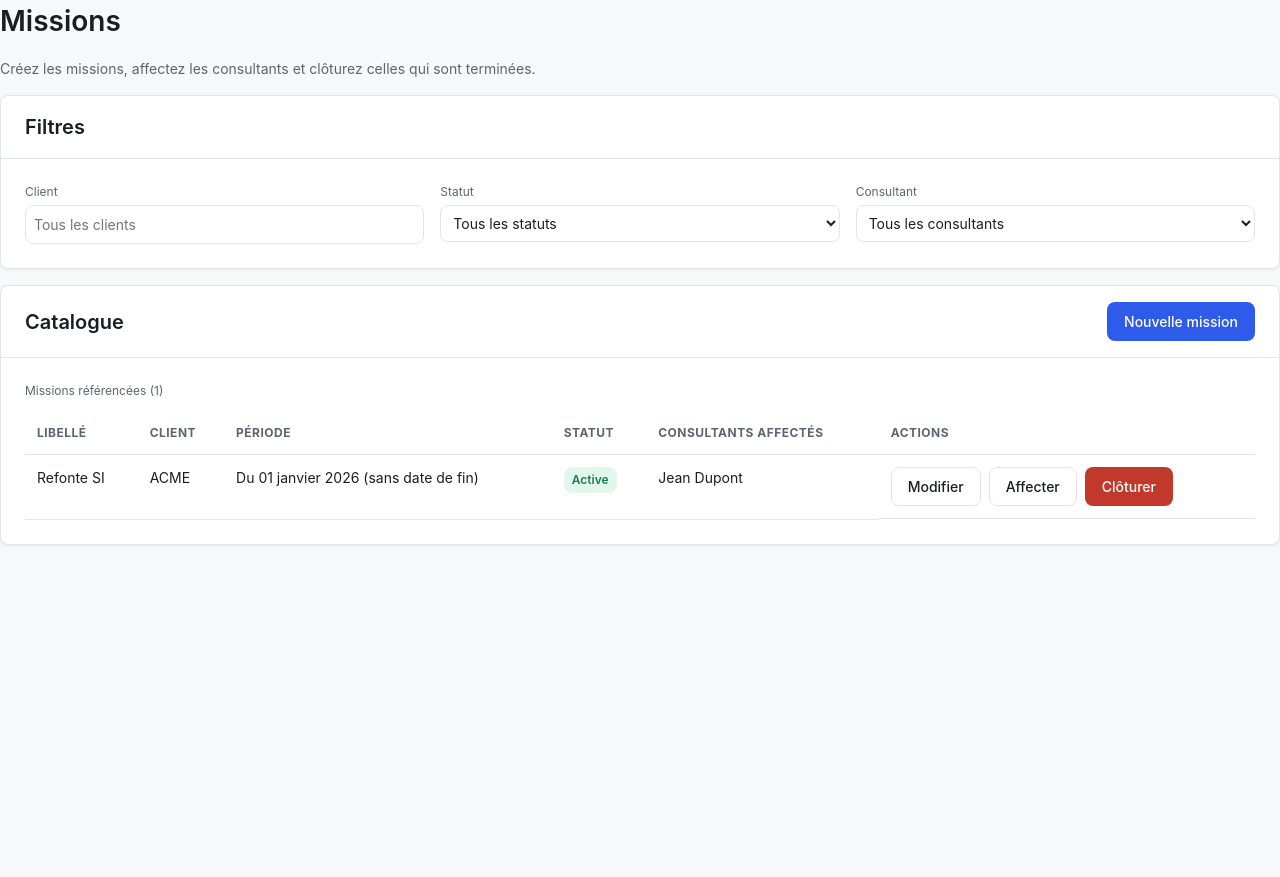
Test: MissionsPage › efface l’erreur de mutation quand le panneau d’affectation est fermé
Click the button "Affecter": x=1033, y=486 [989,467,1077,506]
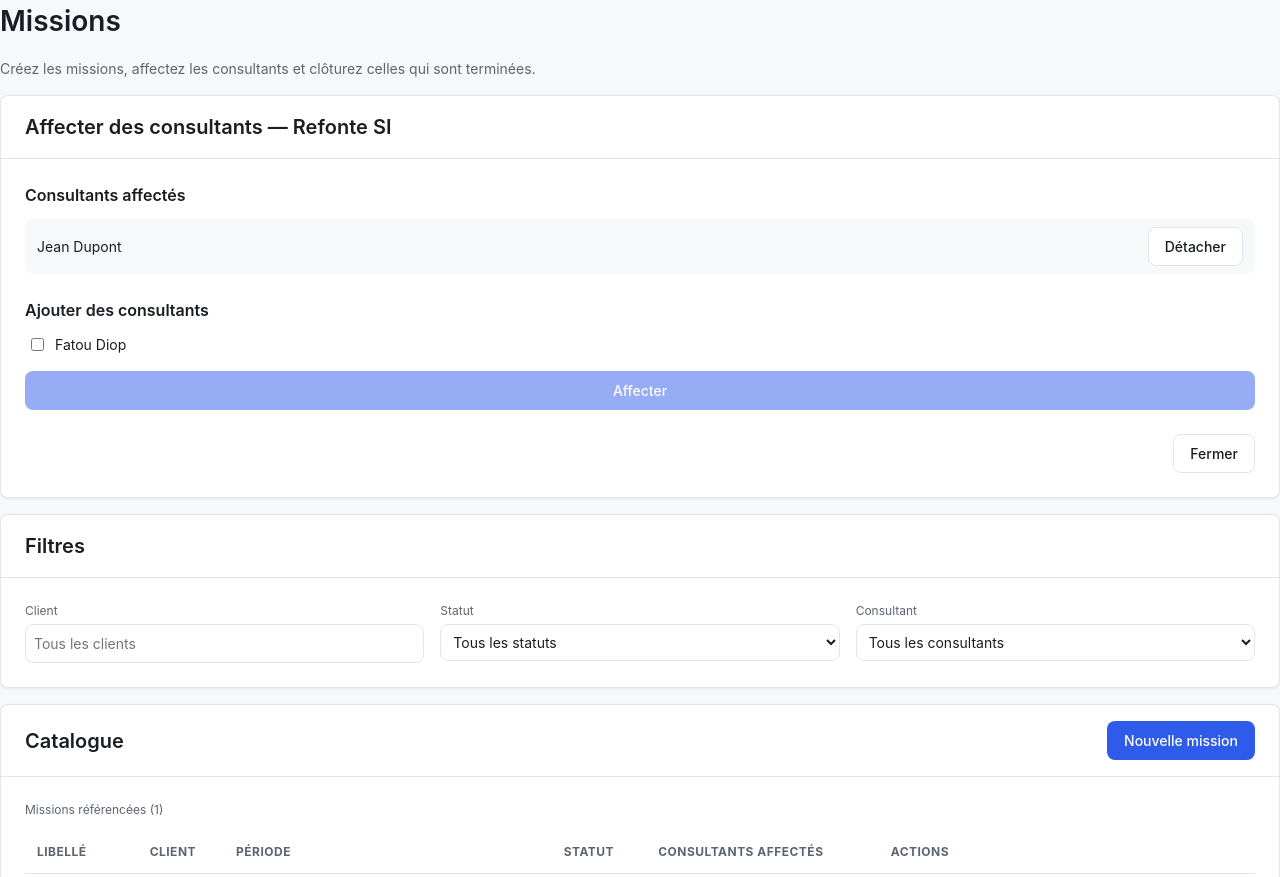
Click the checkbox labelled "Fatou Diop": x=38, y=344 [31,338,44,351]
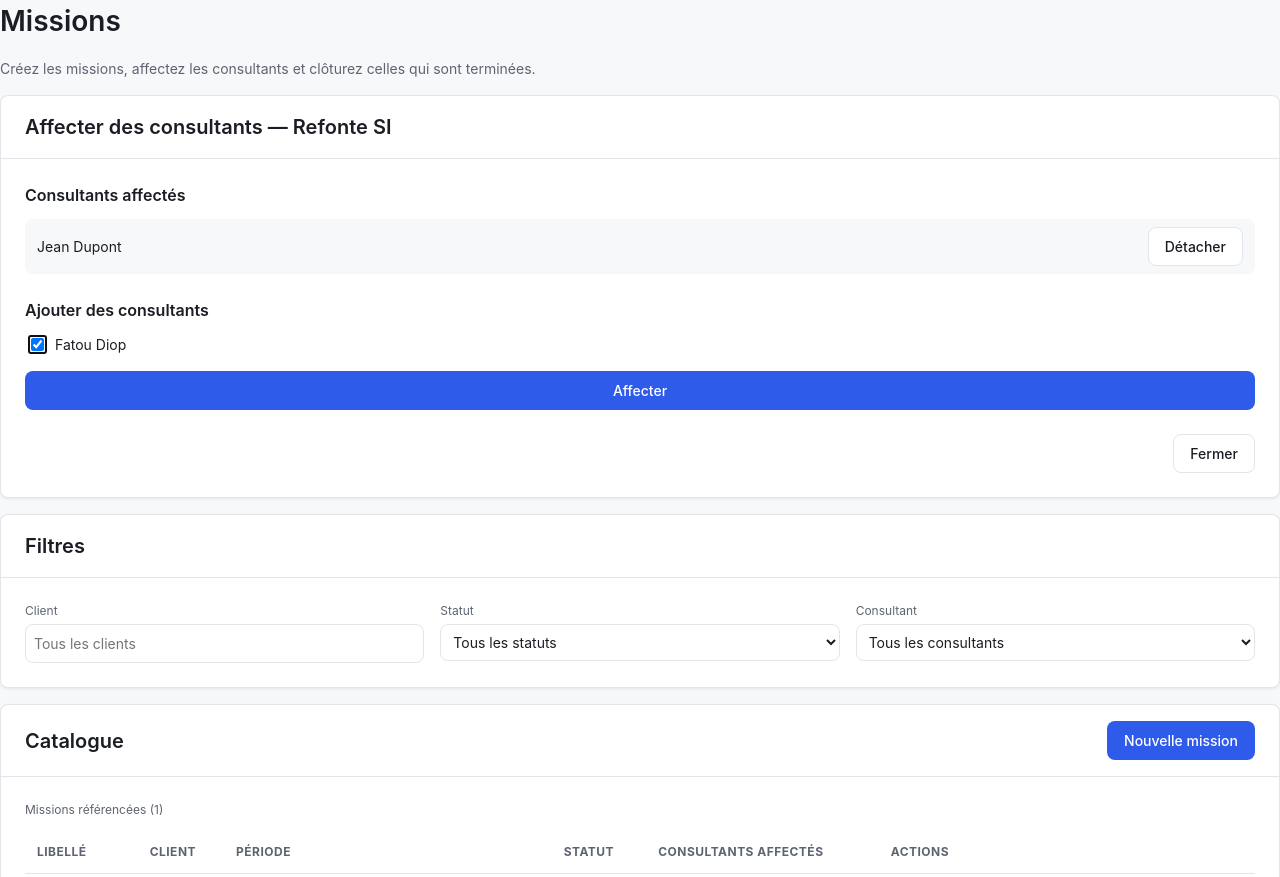
Click the button "Affecter" below "Fatou Diop": x=640, y=390 [25,371,1255,410]
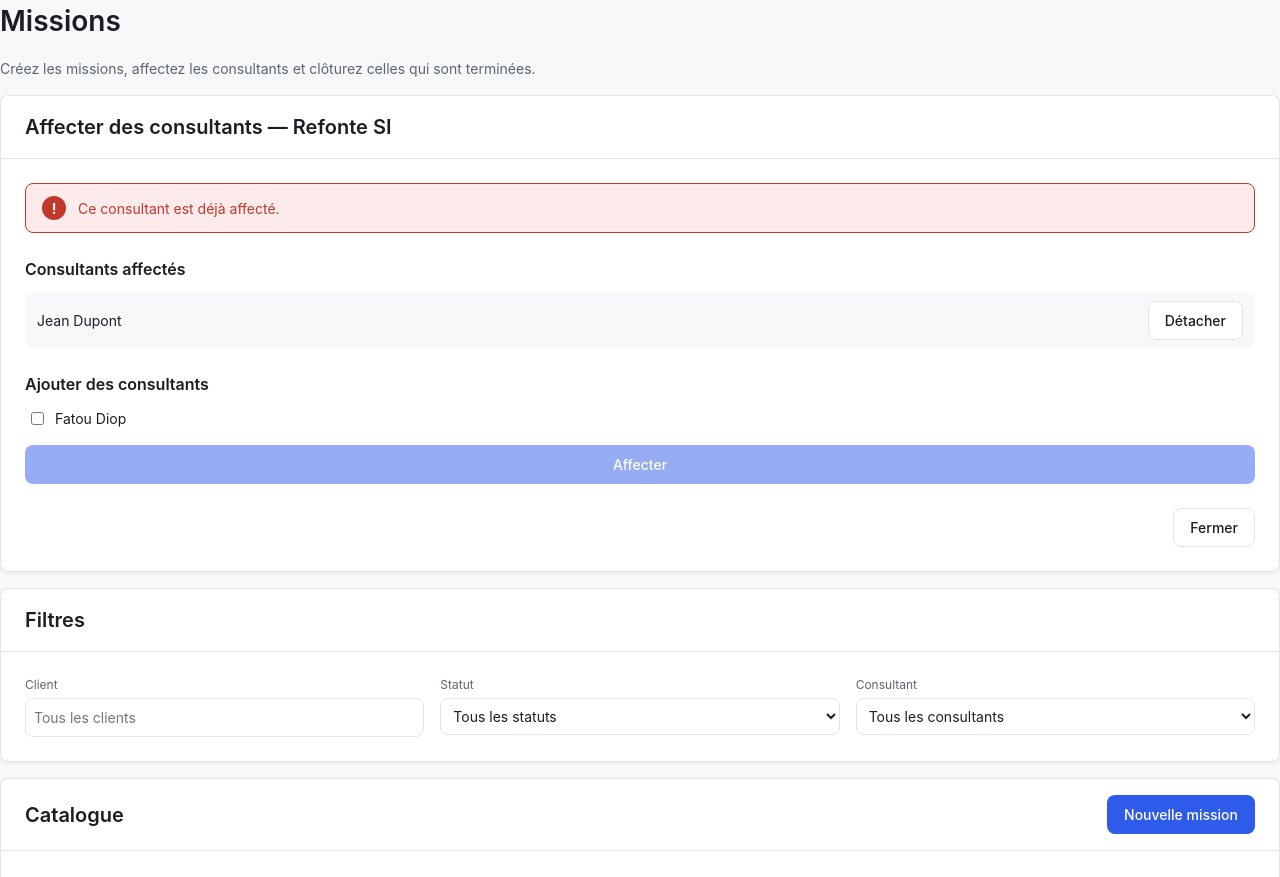
Expected: the text "Ce consultant est déjà affecté." is shown, [78,198,280,218]
Click the button "Fermer": x=1214, y=528 [1173,508,1255,547]
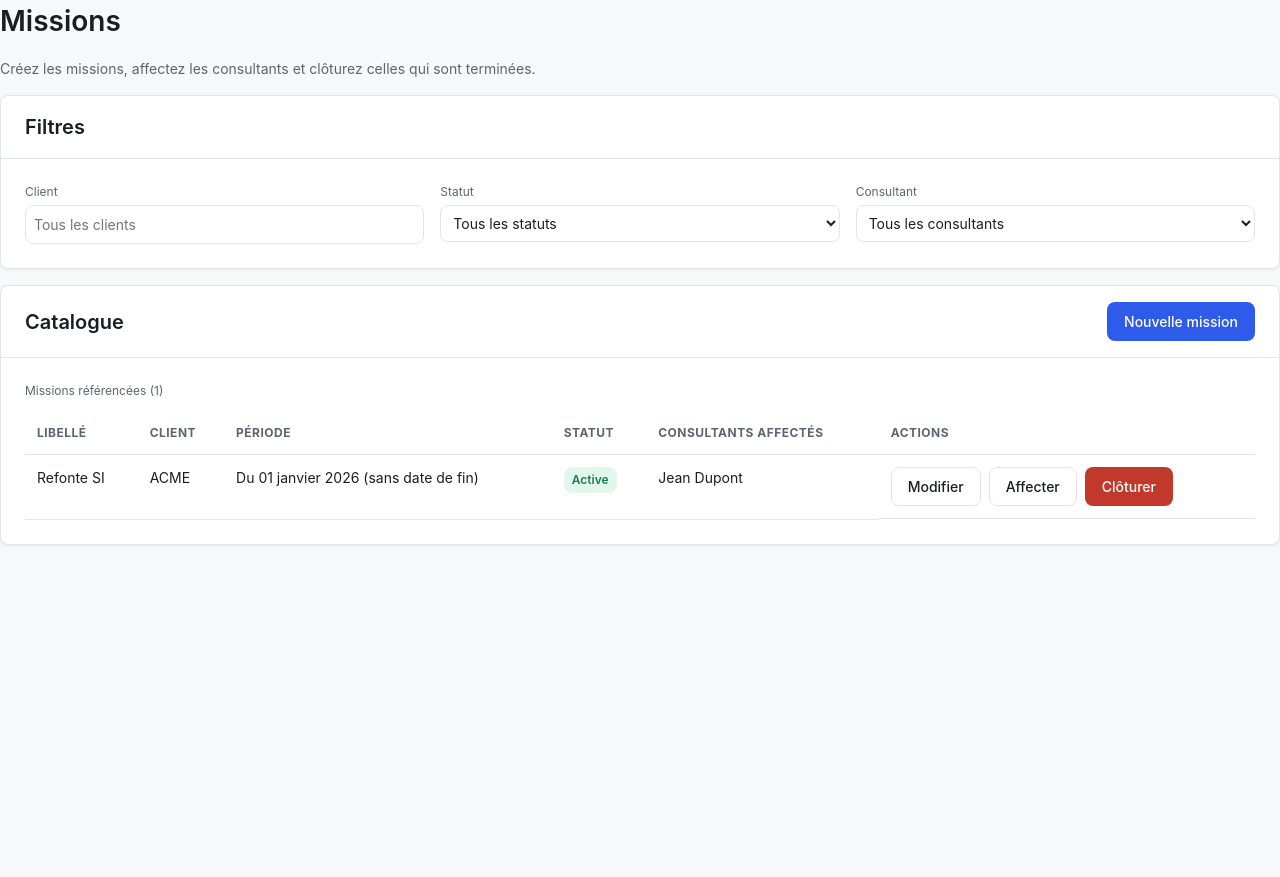
Expected: the text "Ce consultant est déjà affecté." is gone
